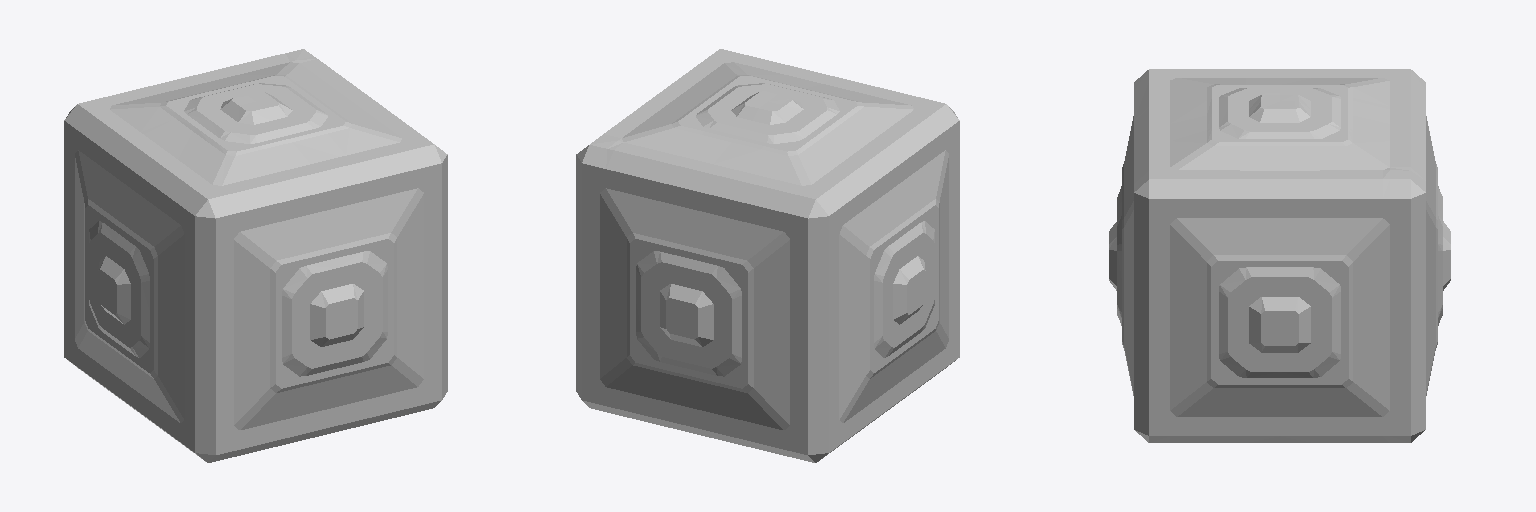
The model's file is PlatformCubeTriangulated.obj.
3 views of the same model, side by side, from view 1: azimuth 30°, elevation 25°; view 2: azimuth 150°, elevation 25°; view 3: azimuth 270°, elevation 25° (orthographic).
Parts seen in each view (by area): view 1: PlatformCubeTriangulated:cube_low9; view 2: PlatformCubeTriangulated:cube_low9; view 3: PlatformCubeTriangulated:cube_low9.
Boxes of the visible parts, x1,y1,x2,y2 form: PlatformCubeTriangulated:cube_low9: [64, 49, 447, 462]; PlatformCubeTriangulated:cube_low9: [576, 49, 959, 462]; PlatformCubeTriangulated:cube_low9: [1109, 69, 1450, 442].
Size of the model in its own units: 0.1152 by 0.1146 by 0.1152.